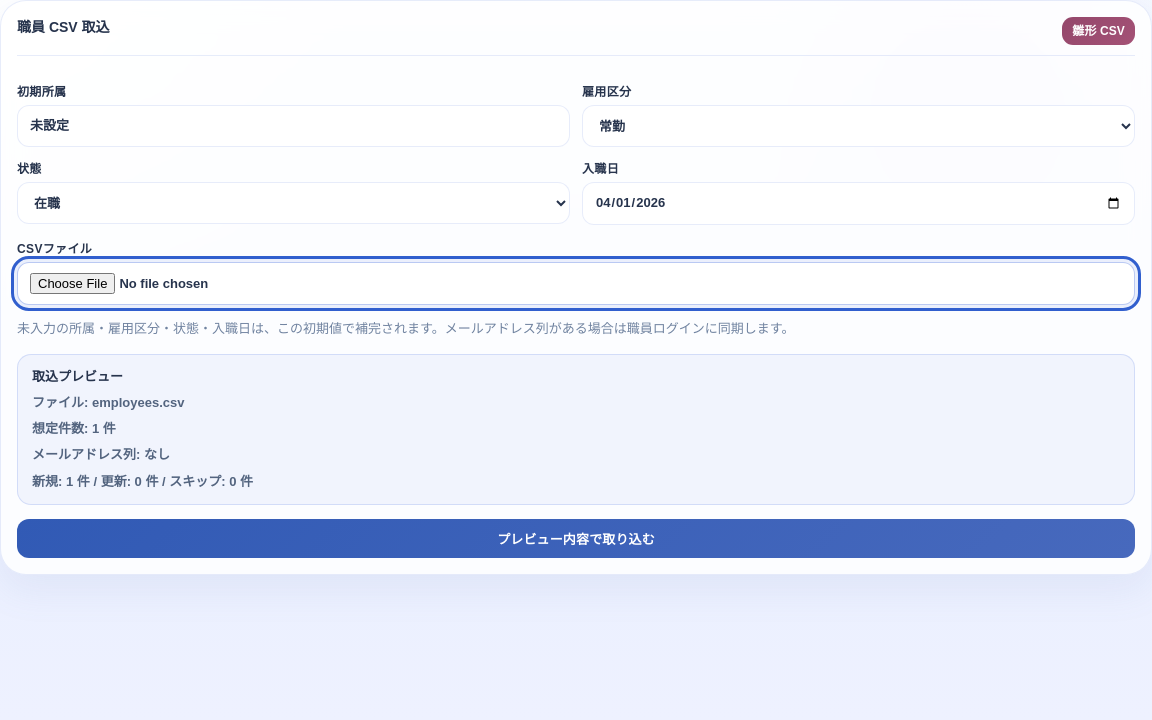
EmployeesSection › 初期値の変更時も再プレビューが完了するまで取込できない
This screenshot has width=1152, height=720.
Earlier steps of the test are not shown.
Expected: the text "想定件数: 1 件" is shown, [32, 421, 116, 436]
Select "退職" in the dropdown labelled "状態" at (294, 203), box [17, 182, 570, 224]
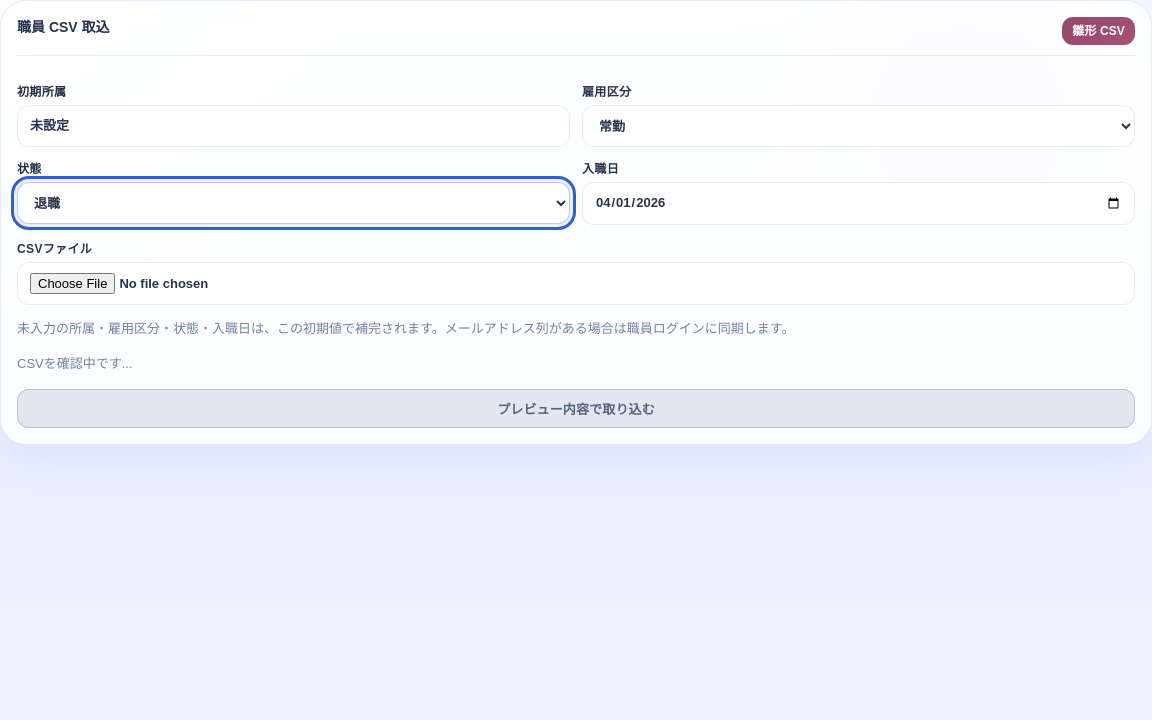
Expected: the button "プレビュー内容で取り込む" is disabled, [17, 389, 1135, 428]
